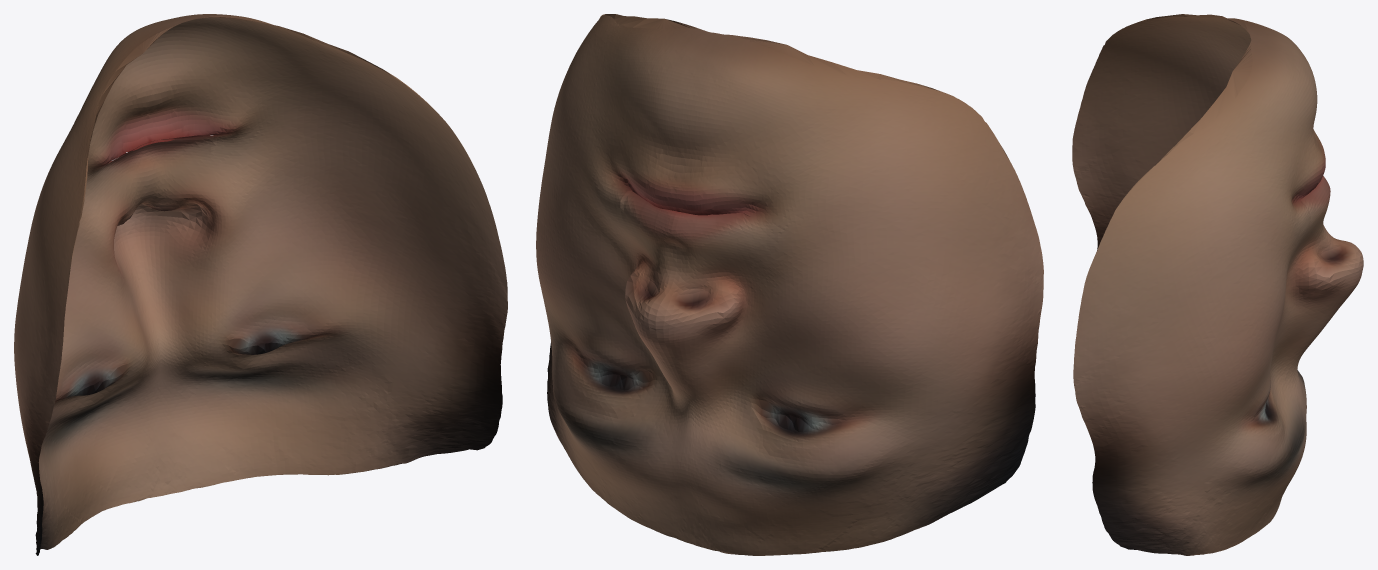
3 renders of one model, left to right at view 1: azimuth 30°, elevation 25°; view 2: azimuth 150°, elevation 25°; view 3: azimuth 270°, elevation 25°, orthographic. The views are drawn at different scales.
Visible parts, largest first — view 1: 1_base; view 2: 1_base; view 3: 1_base.
Boxes of the visible parts, x1,y1,x2,y2 form: 1_base: (14,14,507,555); 1_base: (536,14,1043,555); 1_base: (1072,14,1363,555).
Size of the model in its own units: 97.77 by 97.95 by 56.83.
